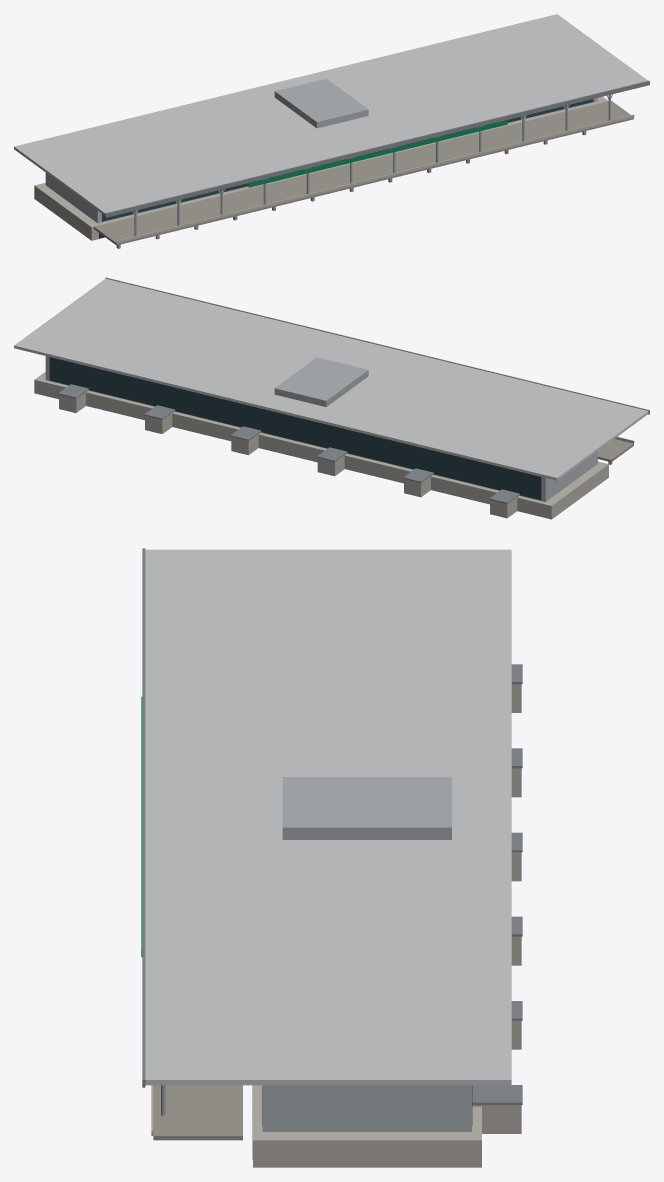
The model's file is ns_terminal_lod1.glb.
3 renders of one model, top to bottom at view 1: azimuth 30°, elevation 25°; view 2: azimuth 150°, elevation 25°; view 3: azimuth 270°, elevation 25°, orthographic. The views are drawn at different scales.
Parts seen in each view (by area): view 1: ns_terminal_lod1; view 2: ns_terminal_lod1; view 3: ns_terminal_lod1.
Part boxes in pixels (left/top/right/bottom): ns_terminal_lod1: left=14, top=14, right=649, bottom=248; ns_terminal_lod1: left=14, top=277, right=649, bottom=519; ns_terminal_lod1: left=141, top=548, right=522, bottom=1167.
Bounding box in the file's own units: 252 × 25 × 76.6.
